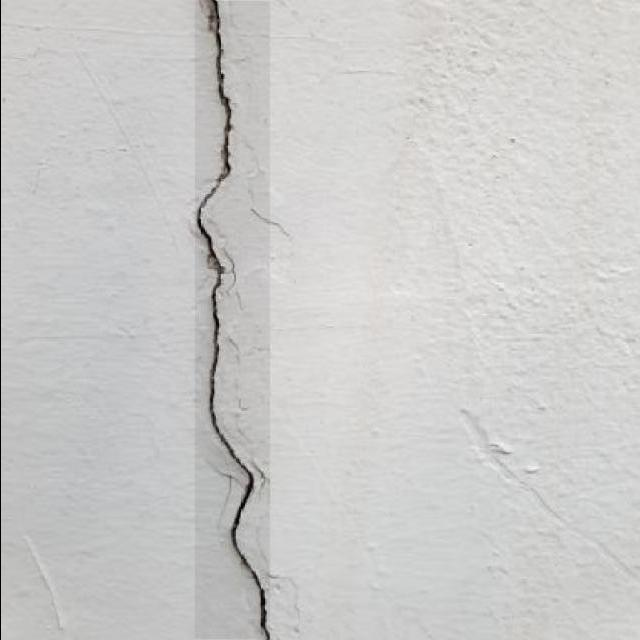Crack: (190, 0, 277, 639)
